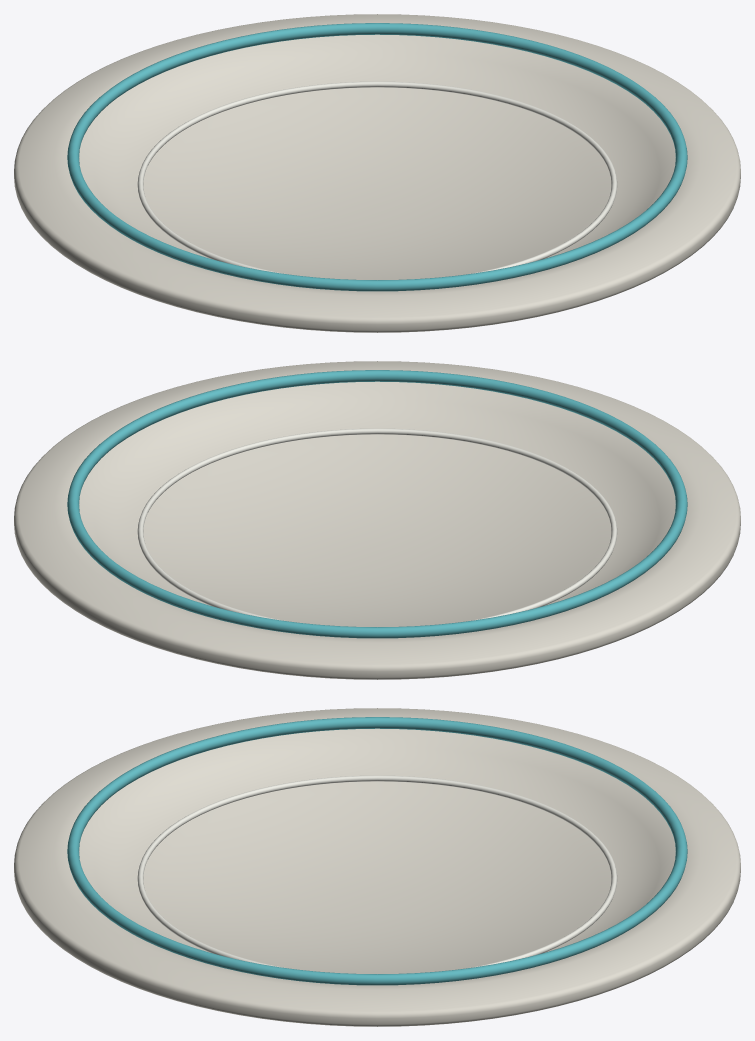
The model's file is plate.glb.
The picture shows the model from 3 angles, top to bottom: view 1: azimuth 30°, elevation 25°; view 2: azimuth 150°, elevation 25°; view 3: azimuth 270°, elevation 25°; orthographic projection.
Parts seen in each view (by area): view 1: Plate; view 2: Plate; view 3: Plate.
Boxes of the visible parts, x1,y1,x2,y2 form: Plate: (14,14,740,332); Plate: (14,361,740,679); Plate: (14,708,740,1026).
Bounding box in the file's own units: 0.27 × 0.0392 × 0.27.
